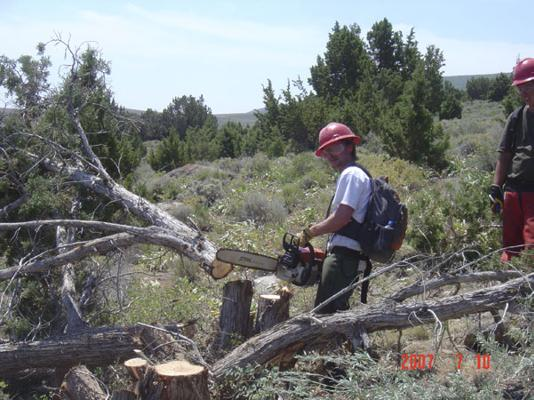person: (295, 122, 409, 315)
